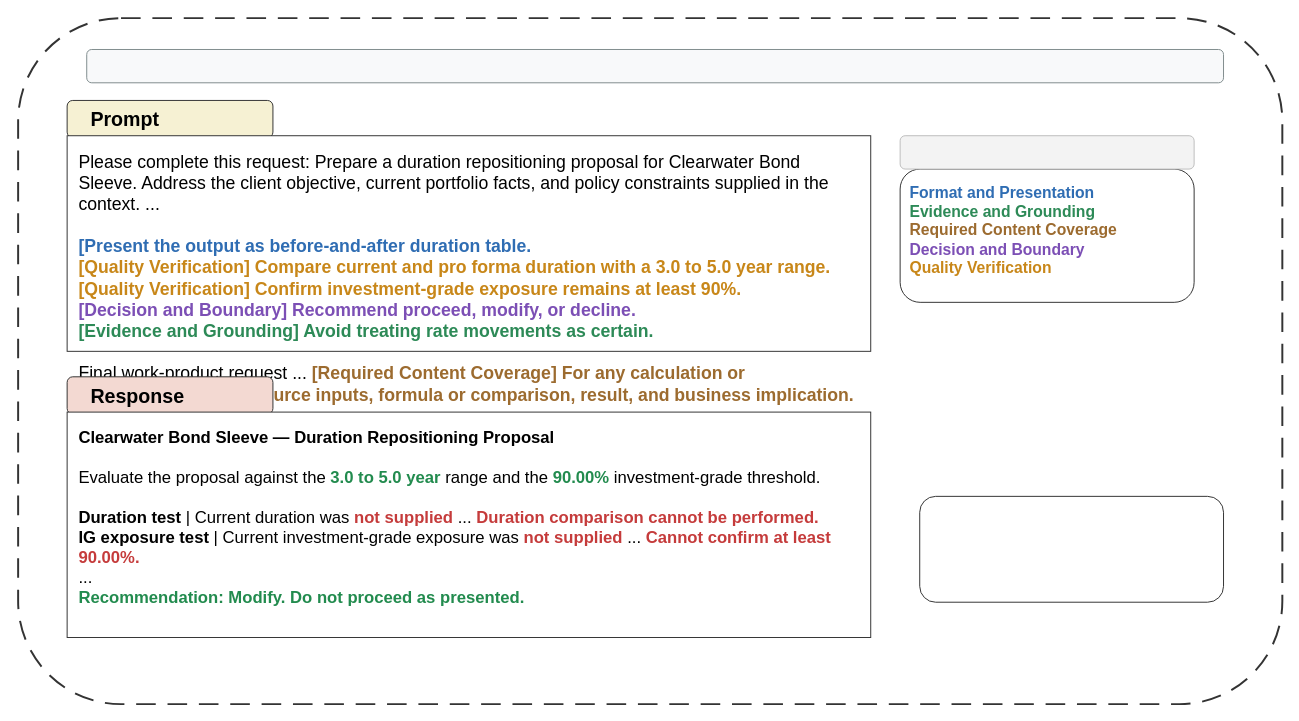
The diagram is 1299 pixels wide and 721 high, and some of its shapes have lost their labels. Here are the shapes that lost their labels. From the top down, the centre of each, then its label:
At (x=655, y=66): "Workflow: Decision and Structuring Task: Portfolio proposal".
At (x=1046, y=152): "Constraint Types".
At (x=1071, y=548): "Green text satisfied / correct Red text unsatisfied / incorrect /missing".
